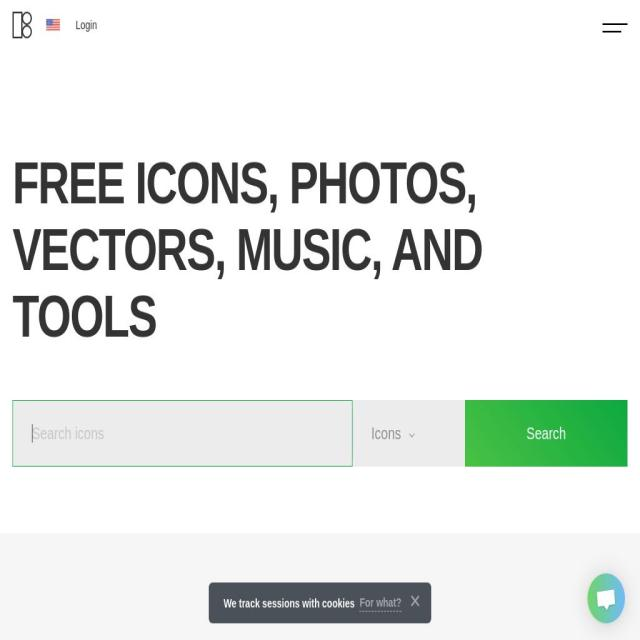button: (465, 402, 627, 469)
field: (12, 402, 352, 469)
heading: (12, 218, 214, 282), (288, 151, 466, 216), (12, 284, 156, 349), (236, 218, 372, 282), (135, 151, 268, 216), (13, 151, 135, 216), (370, 218, 482, 282), (214, 218, 237, 282), (267, 151, 289, 216), (466, 151, 478, 216)
image: (587, 574, 625, 624), (46, 15, 60, 35), (407, 430, 416, 442)
text: (223, 594, 355, 612), (371, 418, 401, 452), (359, 594, 402, 612), (76, 16, 98, 34), (409, 588, 422, 614)
